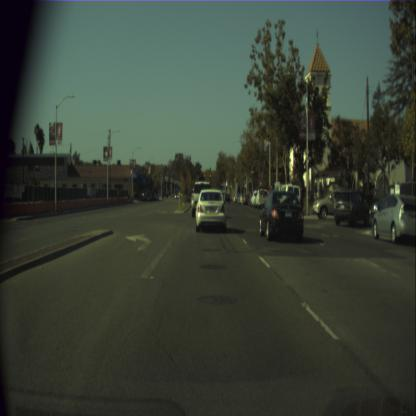Red: (208, 174, 212, 180), (203, 174, 205, 180), (220, 182, 223, 186), (196, 174, 198, 179)
